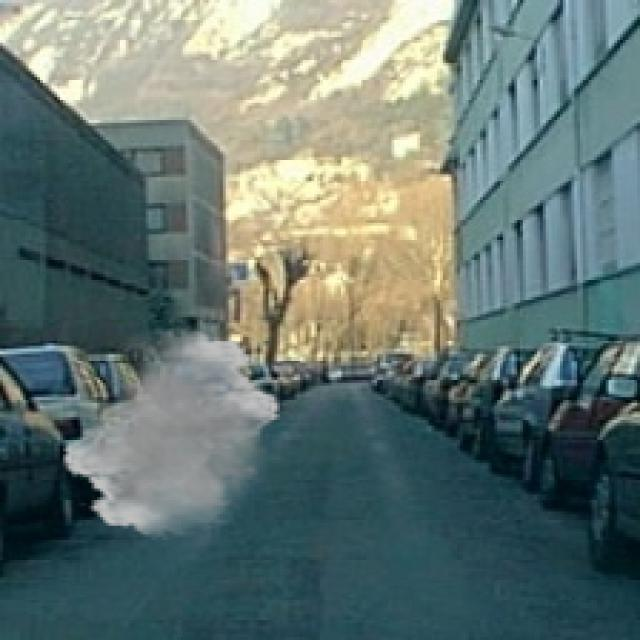Smoke: (60, 326, 283, 540)
